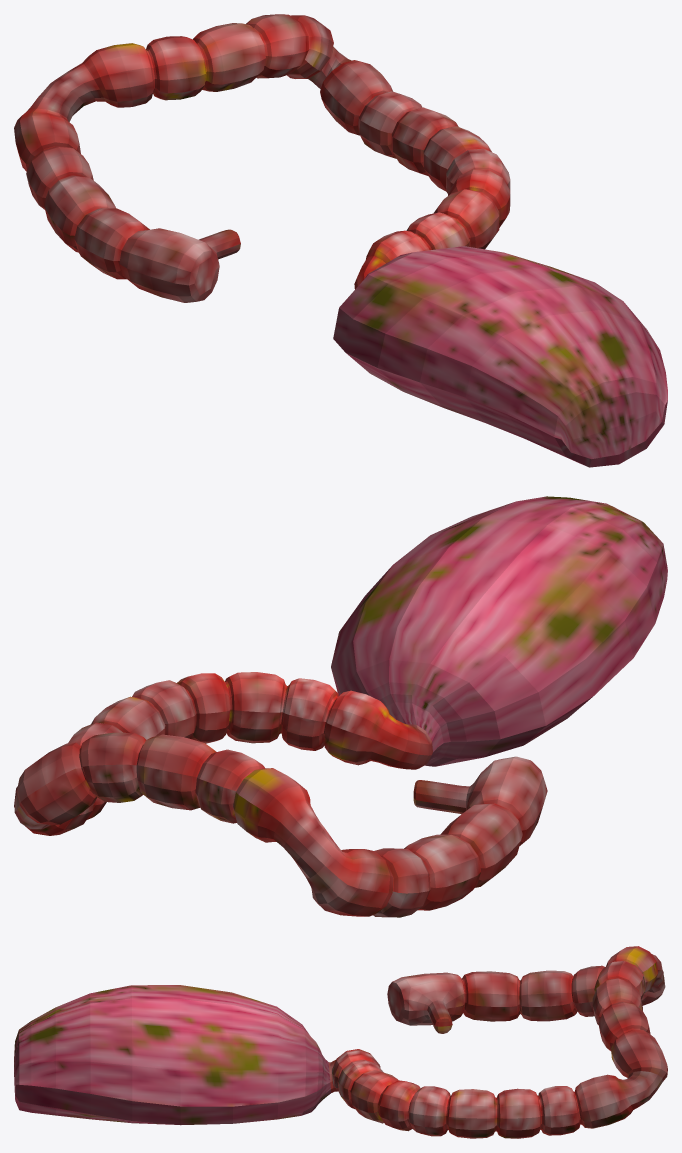
File: Intestino Texturizado.fbx
3 views of the same model, one above another, from view 1: azimuth 30°, elevation 25°; view 2: azimuth 150°, elevation 25°; view 3: azimuth 270°, elevation 25° (orthographic). The views are drawn at different scales.
Parts seen in each view (by area): view 1: BézierCurve; view 2: BézierCurve; view 3: BézierCurve.
Boxes of the visible parts, x1,y1,x2,y2 form: BézierCurve: (14,14,667,467); BézierCurve: (14,496,667,917); BézierCurve: (14,946,667,1138).
Bounding box in the file's own units: 17222 × 7099 × 32679.
Materials: 1 (1 with a texture image).
